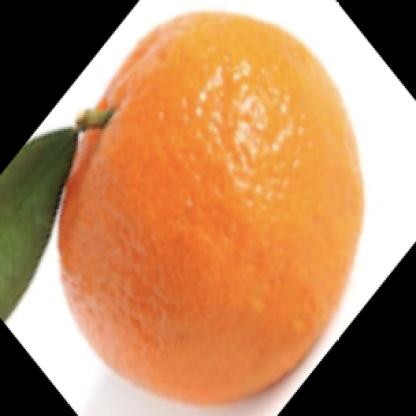fresh: (61, 21, 363, 402)
